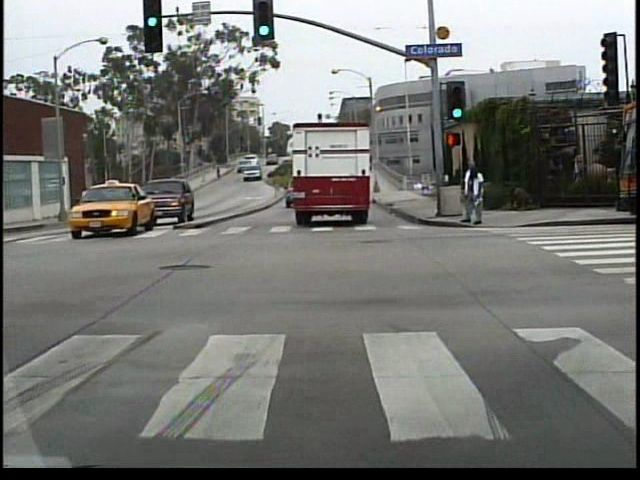person: (462, 161, 488, 227)
